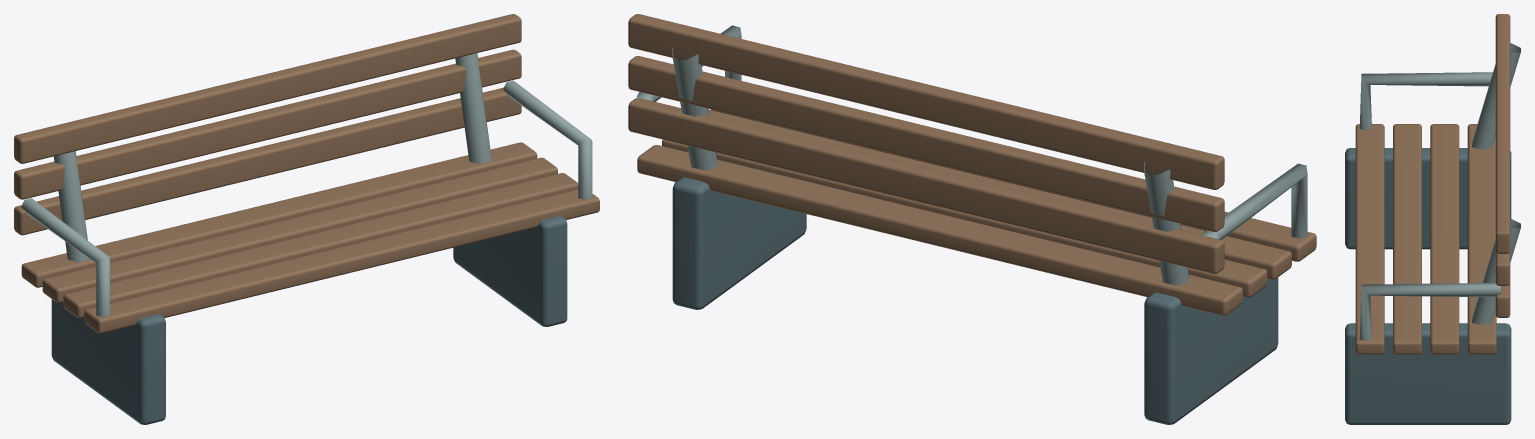
File: bench.glb
The picture shows the model from 3 angles, left to right: view 1: azimuth 30°, elevation 25°; view 2: azimuth 150°, elevation 25°; view 3: azimuth 270°, elevation 25°; orthographic projection. The views are drawn at different scales.
Parts seen in each view (by area): view 1: Wood, Steel, Edge; view 2: Wood, Steel, Edge; view 3: Wood, Steel, Edge.
Part boxes in pixels (box(x1,y1,x2,y2)): Wood: box(14, 14, 599, 333); Steel: box(51, 216, 567, 424); Edge: box(21, 53, 592, 317); Wood: box(628, 14, 1316, 315); Steel: box(672, 177, 1278, 424); Edge: box(636, 25, 1307, 285); Wood: box(1355, 14, 1510, 354); Steel: box(1345, 148, 1511, 424); Edge: box(1359, 43, 1520, 340).
Size of the model in its own units: 2.5 by 1.12 by 0.846.
